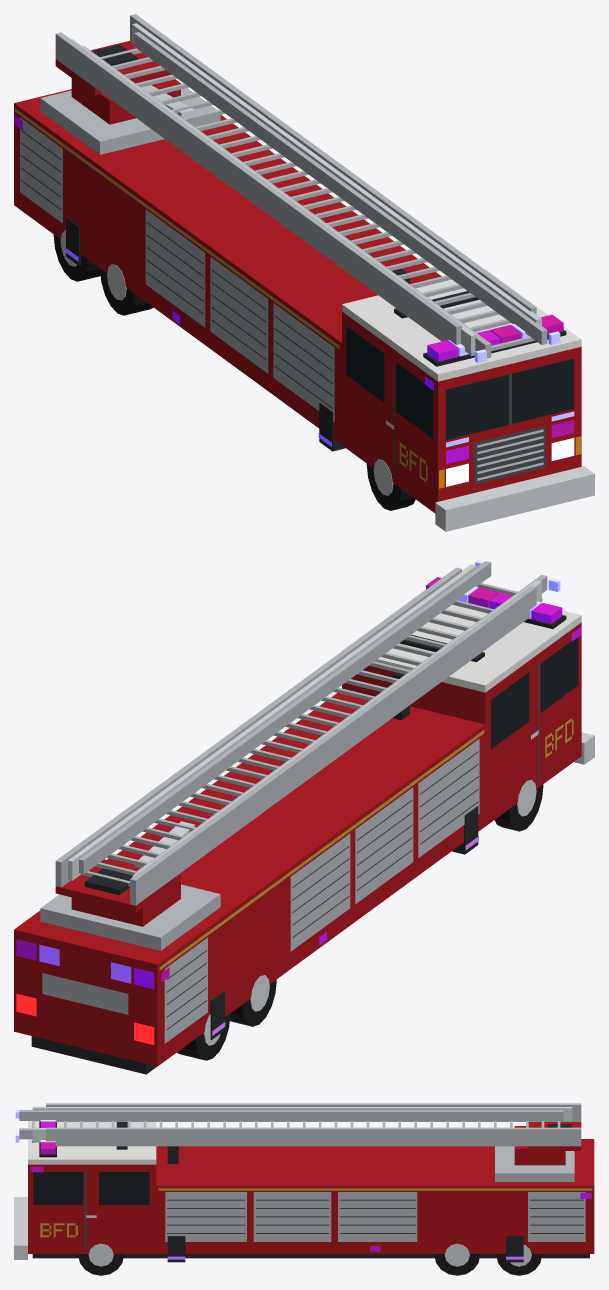
The model's file is bfd-ladder.glb.
3 renders of one model, top to bottom at view 1: azimuth 30°, elevation 25°; view 2: azimuth 150°, elevation 25°; view 3: azimuth 270°, elevation 25°, orthographic. The views are drawn at different scales.
Visible parts, largest first — view 1: bfd-ladder; view 2: bfd-ladder; view 3: bfd-ladder.
Boxes of the visible parts, x1,y1,x2,y2 form: bfd-ladder: (14,14,594,531); bfd-ladder: (14,560,594,1074); bfd-ladder: (14,1103,594,1275).
Size of the model in its own units: 2.6 by 3.4 by 13.13.
